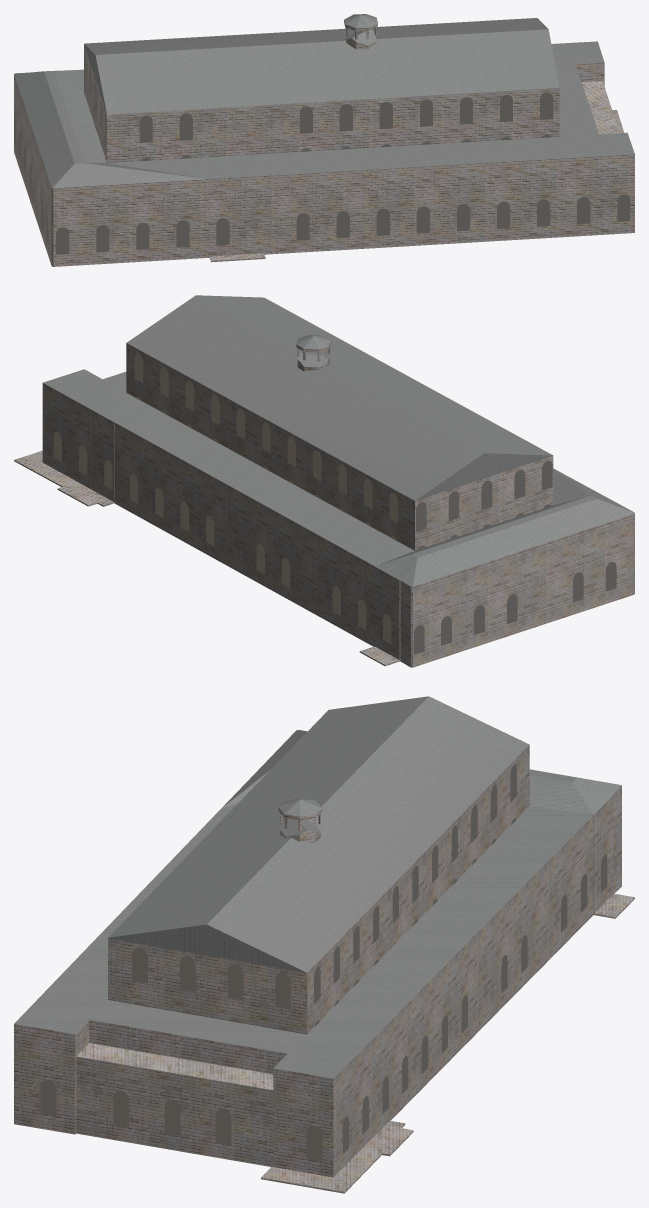
Rendered from theatre-du-chatelet.glb.
3 views of the same model, one above another, from view 1: azimuth 30°, elevation 25°; view 2: azimuth 150°, elevation 25°; view 3: azimuth 270°, elevation 25° (orthographic). The views are drawn at different scales.
Parts seen in each view (by area): view 1: stone, roof, window; view 2: stone, roof, window; view 3: roof, stone, window.
Part boxes in pixels (left/top/right/bottom): stone: left=14, top=14, right=634, bottom=266; roof: left=14, top=14, right=634, bottom=188; window: left=14, top=49, right=630, bottom=254; stone: left=14, top=341, right=634, bottom=667; roof: left=43, top=295, right=634, bottom=586; window: left=53, top=352, right=616, bottom=654; roof: left=14, top=696, right=621, bottom=1078; stone: left=14, top=744, right=634, bottom=1193; window: left=40, top=764, right=607, bottom=1161.
Size of the model in its own units: 101 by 29 by 72.93.
Materials: 4 (4 with a texture image).
